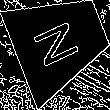N_NE: (32, 14, 89, 70)
